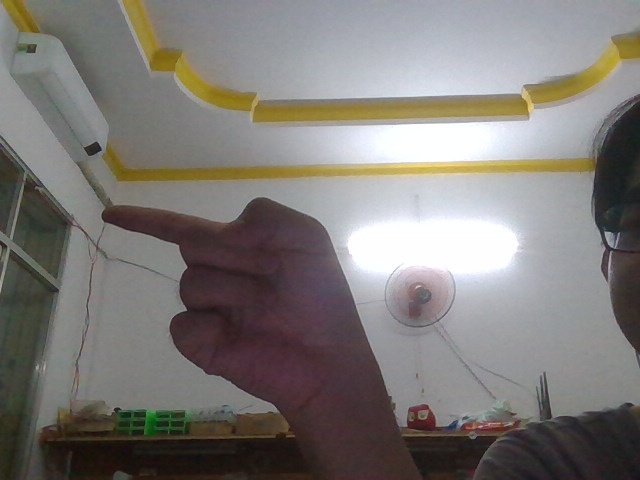turn_right: (84, 185, 399, 425)
